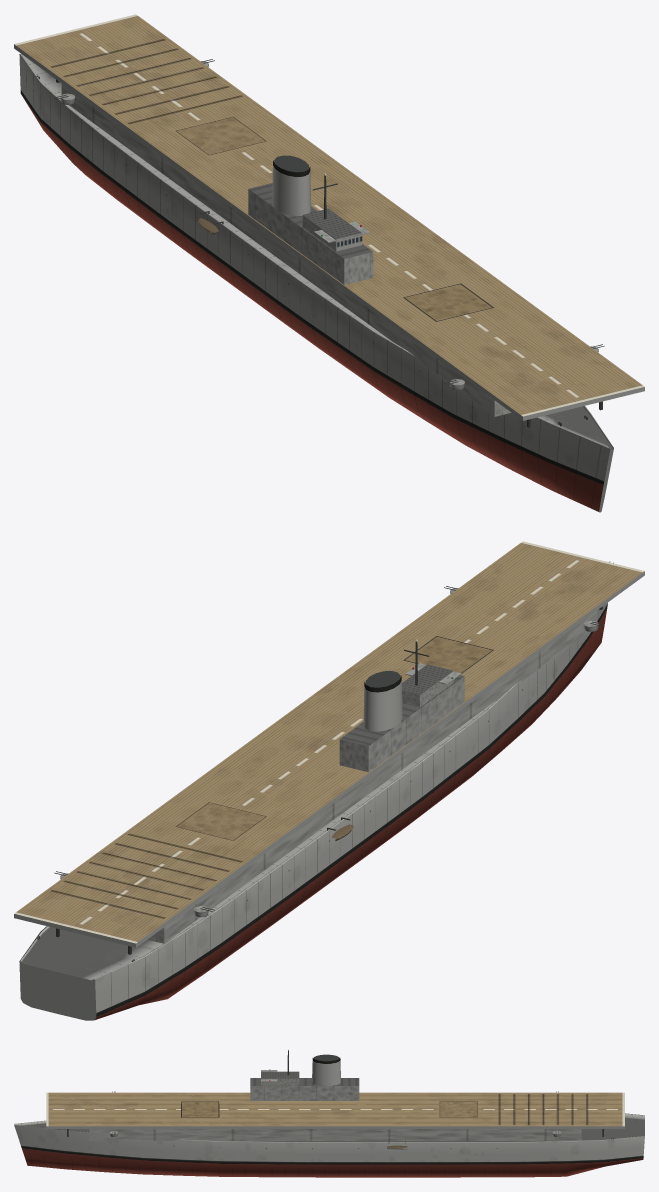
Rendered from carrier.glb.
3 renders of one model, top to bottom at view 1: azimuth 30°, elevation 25°; view 2: azimuth 150°, elevation 25°; view 3: azimuth 270°, elevation 25°, orthographic. The views are drawn at different scales.
Parts seen in each view (by area): view 1: hull, ascenseur; view 2: hull, ascenseur; view 3: hull, ascenseur.
Part boxes in pixels (x1,y1,x2,y2): hull: [14, 14, 644, 512]; ascenseur: [403, 283, 493, 321]; hull: [14, 541, 644, 1020]; ascenseur: [403, 636, 493, 673]; hull: [14, 1049, 644, 1177]; ascenseur: [181, 1101, 218, 1117].
Bounding box in the file's own units: 38.2 × 41.92 × 232.
7 materials, 6 textured.
